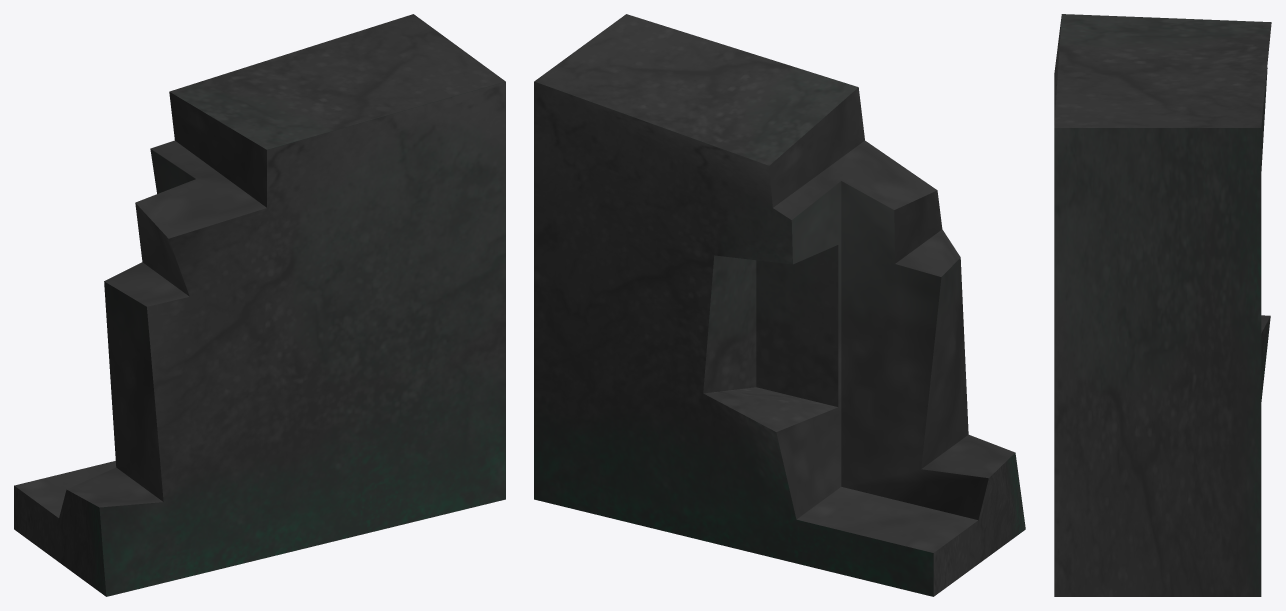
Rendered from concrete_damaged.glb.
3 renders of one model, left to right at view 1: azimuth 30°, elevation 25°; view 2: azimuth 150°, elevation 25°; view 3: azimuth 270°, elevation 25°, orthographic. The views are drawn at different scales.
Parts seen in each view (by area): view 1: Cube; view 2: Cube; view 3: Cube.
Boxes of the visible parts, left/top/right/bottom form: Cube: left=14, top=14, right=505, bottom=596; Cube: left=534, top=14, right=1025, bottom=596; Cube: left=1054, top=14, right=1271, bottom=596.
Size of the model in its own units: 2.01 by 2 by 0.8403.
Materials: 1 (1 with a texture image).
